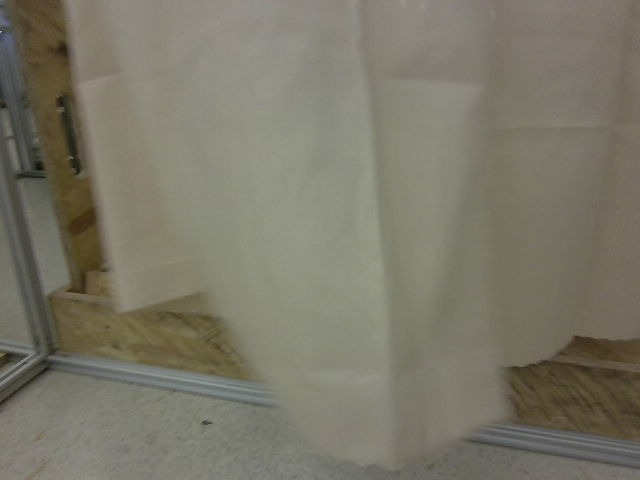curtain: (64, 0, 640, 461)
